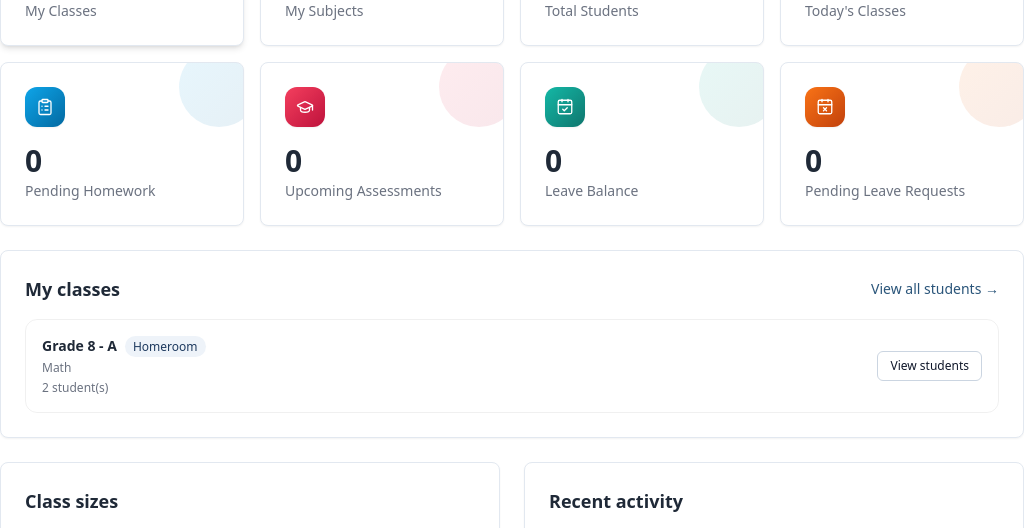
Scenario: TeacherDashboardPage › loads and displays the class roster when 'View students' is clicked
This screenshot has width=1024, height=528.
(page scrolled)
Click the button "View students": (930, 366) [878,351,982,381]
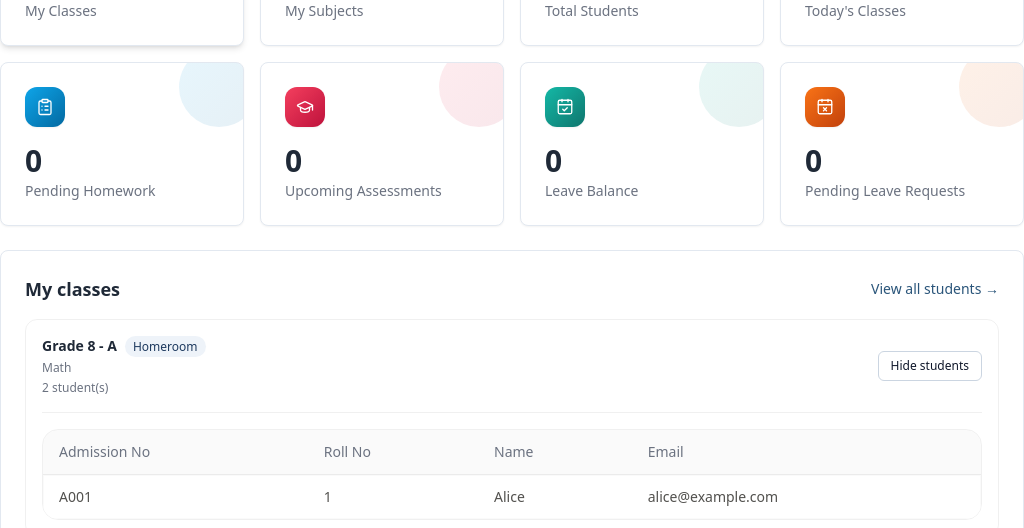
Now the text "Alice" is shown, box [478,474,632,519]
Now the text "A001" is shown, box [43,474,308,519]
